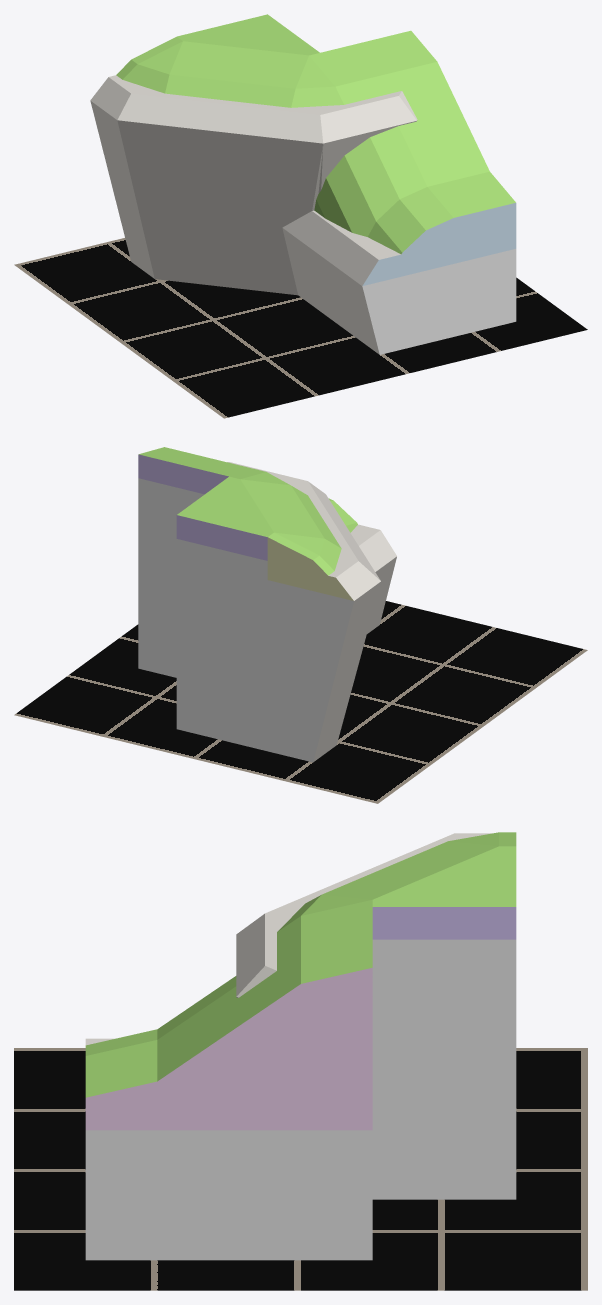
The model's file is Waterfall_Left_Top_Terrain_3x3.glb.
3 renders of one model, top to bottom at view 1: azimuth 30°, elevation 25°; view 2: azimuth 150°, elevation 25°; view 3: azimuth 270°, elevation 25°, orthographic. The views are drawn at different scales.
Visible parts, largest first — view 1: Waterfall_Left_Top_Terrain_3x3, Floor; view 2: Waterfall_Left_Top_Terrain_3x3, Floor; view 3: Waterfall_Left_Top_Terrain_3x3, Floor.
Boxes of the visible parts, x1,y1,x2,y2 form: Waterfall_Left_Top_Terrain_3x3: (90,14,516,354); Floor: (14,238,587,418); Waterfall_Left_Top_Terrain_3x3: (138,447,396,762); Floor: (14,601,587,803); Waterfall_Left_Top_Terrain_3x3: (85,832,516,1260); Floor: (14,1048,587,1290).
Bounding box in the file's own units: 400 × 225 × 400.
8 materials, 1 textured.
